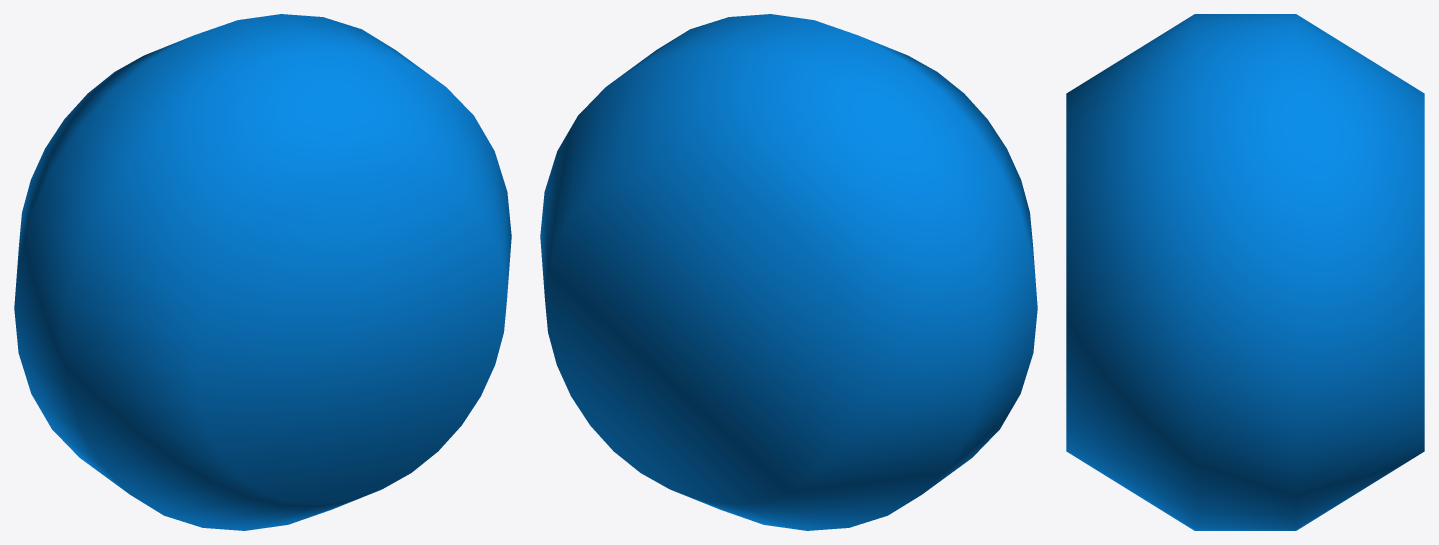
File: Blocco.fbx
The picture shows the model from 3 angles, left to right: view 1: azimuth 30°, elevation 25°; view 2: azimuth 150°, elevation 25°; view 3: azimuth 270°, elevation 25°; orthographic projection.
Visible parts, largest first — view 1: Cylinder.027; view 2: Cylinder.027; view 3: Cylinder.027.
Part boxes in pixels (box(x1,y1,x2,y2)): Cylinder.027: box(14, 14, 511, 530); Cylinder.027: box(540, 14, 1037, 530); Cylinder.027: box(1066, 14, 1424, 530).
Size of the model in its own units: 34.41 by 34.41 by 23.82.
